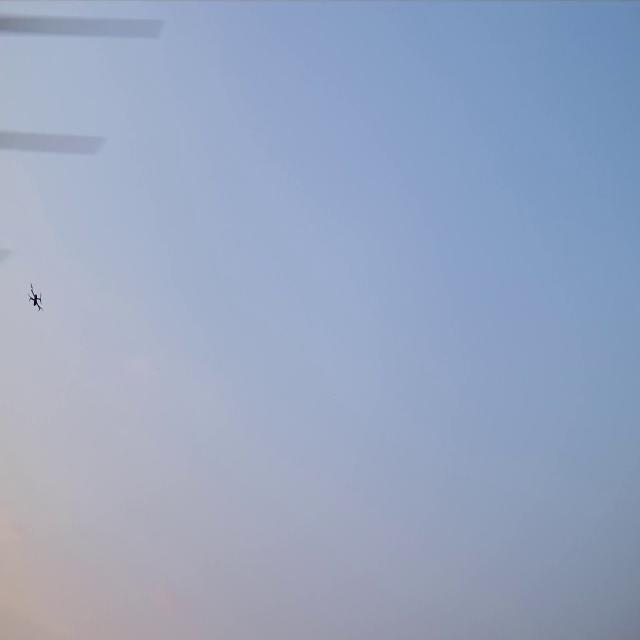UAV: (30, 286, 40, 310)
